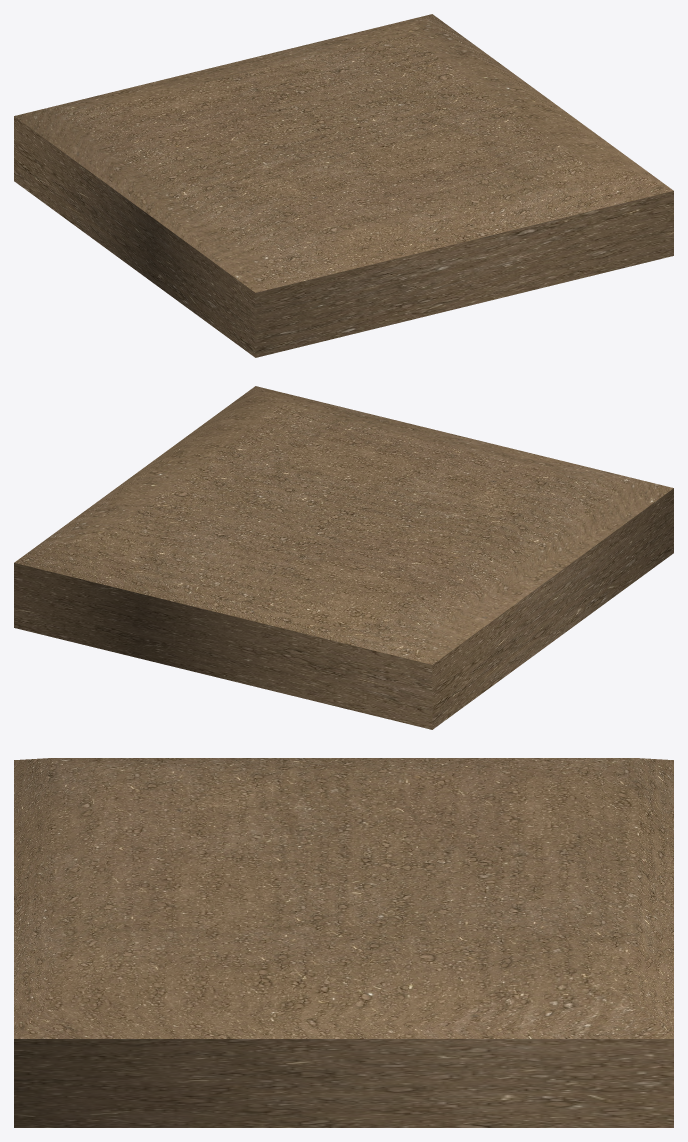
File: Flower_Bed.fbx
The picture shows the model from 3 angles, top to bottom: view 1: azimuth 30°, elevation 25°; view 2: azimuth 150°, elevation 25°; view 3: azimuth 270°, elevation 25°; orthographic projection. The views are drawn at different scales.
Visible parts, largest first — view 1: pCube4; view 2: pCube4; view 3: pCube4.
Boxes of the visible parts, left/top/right/bottom form: pCube4: left=14, top=14, right=673, bottom=357; pCube4: left=14, top=386, right=673, bottom=729; pCube4: left=14, top=758, right=673, bottom=1127.
Bounding box in the file's own units: 1 × 0.198 × 1.
